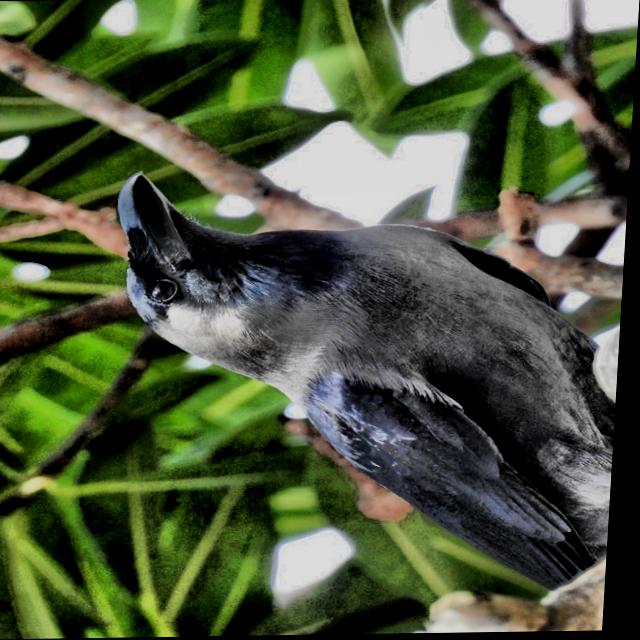crow: (48, 156, 624, 597)
